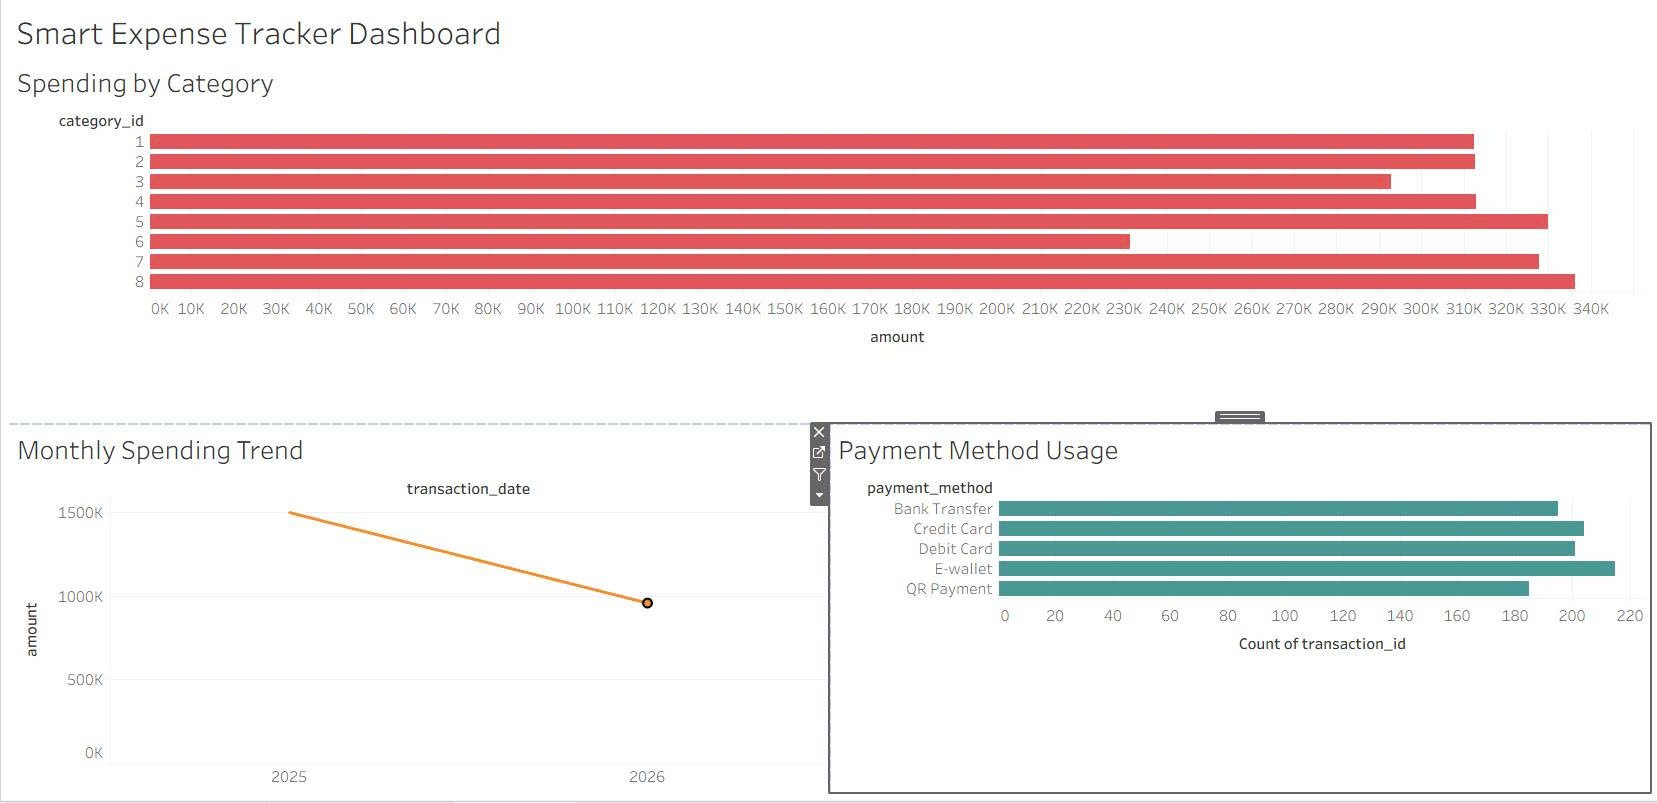

Layout of this report page (visuals, bound fields, positions):
{"tool":"tableau","page":{"name":"Dashboard 1","canvas":[1000,1000],"units":"permille","ordinal":0},"visuals":[{"type":"title","box":[4.8,10,990.3,62.4]},{"type":"worksheet","title":"Spending by Category","mark":"Automatic","rows":["category_id"],"cols":["amount"],"box":[4.8,72.4,990.3,458.8]},{"type":"worksheet","title":"Monthly Spending Trend","mark":"Automatic","rows":["amount"],"cols":["transaction_date"],"box":[4.8,531.2,495.2,458.8]},{"type":"worksheet","title":"Payment Method Usage","mark":"Automatic","rows":["payment_method"],"cols":["transaction_id"],"box":[500,531.2,495.2,458.8]}]}

Visuals, with their boxes on the dashboard's canvas, which has no fixed pixel size, in thousandths of its width and height (x1, y1, x2, y2). These are canvas units, not pixel positions in the 1657x803 screenshot, which may show the page scaled, cropped or inside an application window:
title: [x1=5, y1=10, x2=995, y2=72]
"Spending by Category" worksheet: [x1=5, y1=72, x2=995, y2=531]
"Monthly Spending Trend" worksheet: [x1=5, y1=531, x2=500, y2=990]
"Payment Method Usage" worksheet: [x1=500, y1=531, x2=995, y2=990]
